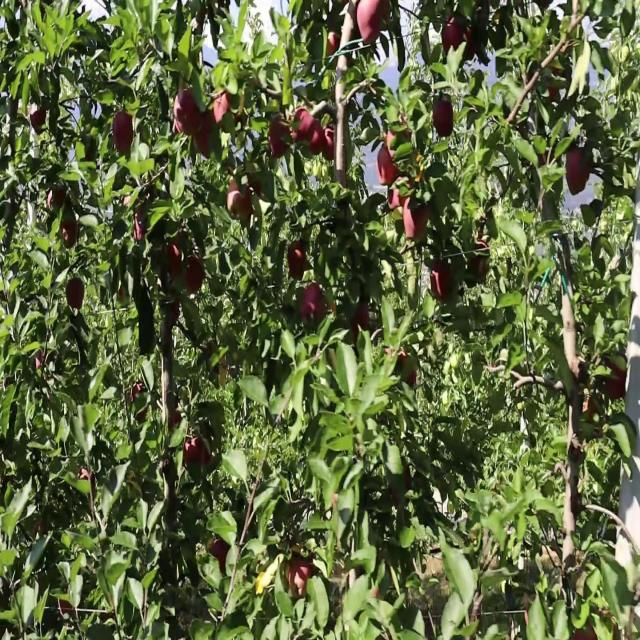apple: (376, 120, 414, 187), (396, 156, 425, 210), (172, 85, 201, 137), (356, 0, 388, 44), (388, 170, 420, 213), (564, 149, 592, 197), (384, 113, 414, 156), (404, 199, 432, 245), (288, 554, 316, 599), (268, 113, 293, 162), (228, 177, 254, 224), (548, 540, 577, 581), (376, 142, 401, 187), (196, 113, 218, 162), (216, 92, 245, 128), (112, 113, 136, 156), (432, 263, 455, 306), (432, 99, 456, 140), (468, 234, 490, 277), (184, 433, 211, 468), (604, 362, 627, 402), (404, 156, 425, 199), (184, 255, 205, 297), (288, 241, 309, 283), (300, 284, 323, 322), (196, 106, 216, 149), (388, 177, 411, 213), (444, 14, 463, 55), (392, 469, 412, 507), (216, 92, 236, 130), (308, 291, 331, 324), (293, 106, 313, 142), (132, 383, 148, 425), (68, 277, 85, 313), (308, 120, 325, 156), (400, 355, 418, 389), (168, 241, 184, 279), (60, 220, 80, 249), (48, 184, 68, 213), (132, 206, 147, 244), (76, 469, 96, 494), (584, 398, 602, 425), (324, 127, 336, 164), (464, 28, 477, 62), (356, 305, 372, 332), (32, 106, 48, 133), (388, 184, 402, 213), (36, 348, 51, 372), (168, 298, 181, 325), (328, 35, 342, 60), (200, 440, 212, 468), (32, 519, 48, 539), (548, 85, 561, 105)
